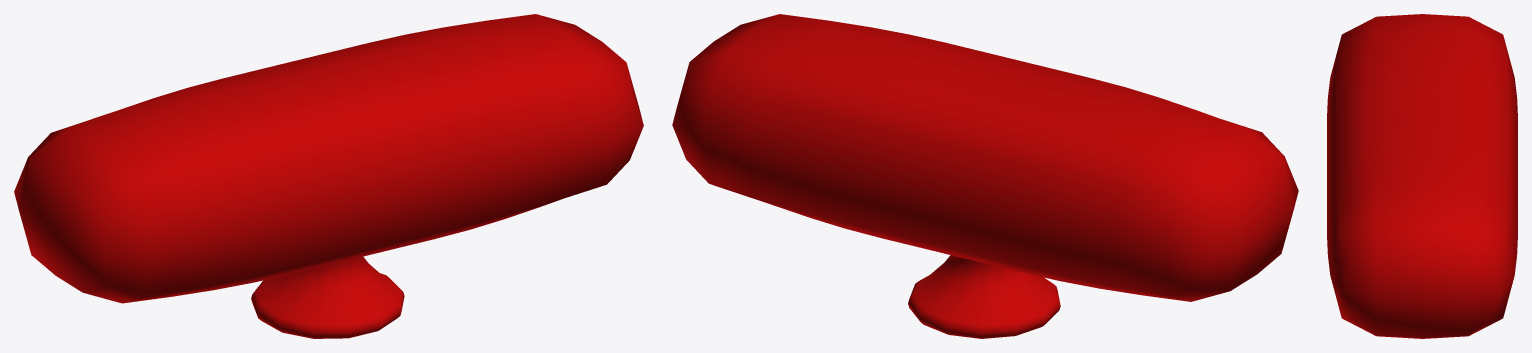
3 views of the same model, side by side, from view 1: azimuth 30°, elevation 25°; view 2: azimuth 150°, elevation 25°; view 3: azimuth 270°, elevation 25° (orthographic). The views are drawn at different scales.
Parts seen in each view (by area): view 1: Text029; view 2: Text029; view 3: Text029.
Boxes of the visible parts, x1,y1,x2,y2 form: Text029: (14, 14, 643, 338); Text029: (672, 14, 1298, 338); Text029: (1327, 14, 1517, 338).
Size of the model in its own units: 47.61 by 18.53 by 15.67.
